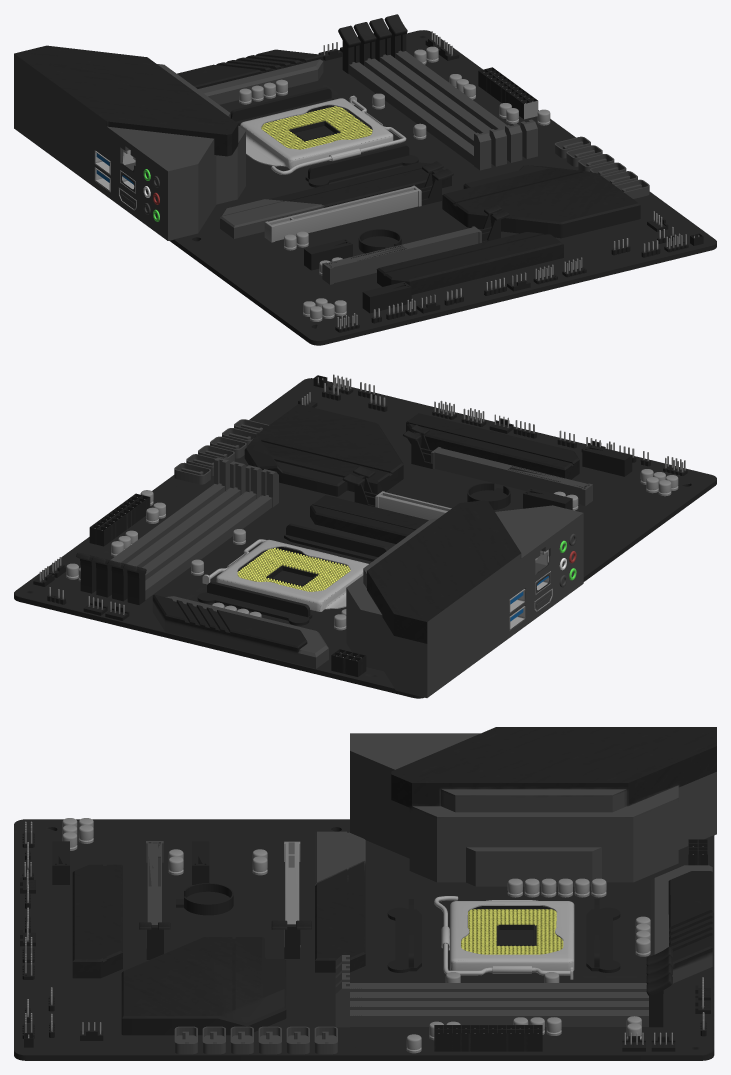
Rendered from ATX_INTEL.fbx.
The picture shows the model from 3 angles, top to bottom: view 1: azimuth 30°, elevation 25°; view 2: azimuth 150°, elevation 25°; view 3: azimuth 270°, elevation 25°; orthographic projection. The views are drawn at different scales.
Parts seen in each view (by area): view 1: ATX_BAKED.001, INTEL_LOCK.001, INTEL_SOCKET.001, INTEL_LATCH.001; view 2: ATX_BAKED.001, INTEL_LOCK.001, INTEL_SOCKET.001; view 3: ATX_BAKED.001, INTEL_SOCKET.001, INTEL_LOCK.001, INTEL_LATCH.001.
Part boxes in pixels (bbox=[...]): ATX_BAKED.001: bbox=[14, 14, 716, 345]; INTEL_LOCK.001: bbox=[239, 98, 393, 168]; INTEL_SOCKET.001: bbox=[261, 95, 372, 161]; INTEL_LATCH.001: bbox=[271, 99, 406, 174]; ATX_BAKED.001: bbox=[14, 374, 716, 698]; INTEL_LOCK.001: bbox=[216, 539, 368, 611]; INTEL_SOCKET.001: bbox=[202, 547, 350, 591]; ATX_BAKED.001: bbox=[14, 727, 716, 1060]; INTEL_SOCKET.001: bbox=[441, 906, 573, 979]; INTEL_LOCK.001: bbox=[450, 900, 574, 973]; INTEL_LATCH.001: bbox=[434, 896, 570, 975].
Bounding box in the file's own units: 392 × 71.85 × 485.
